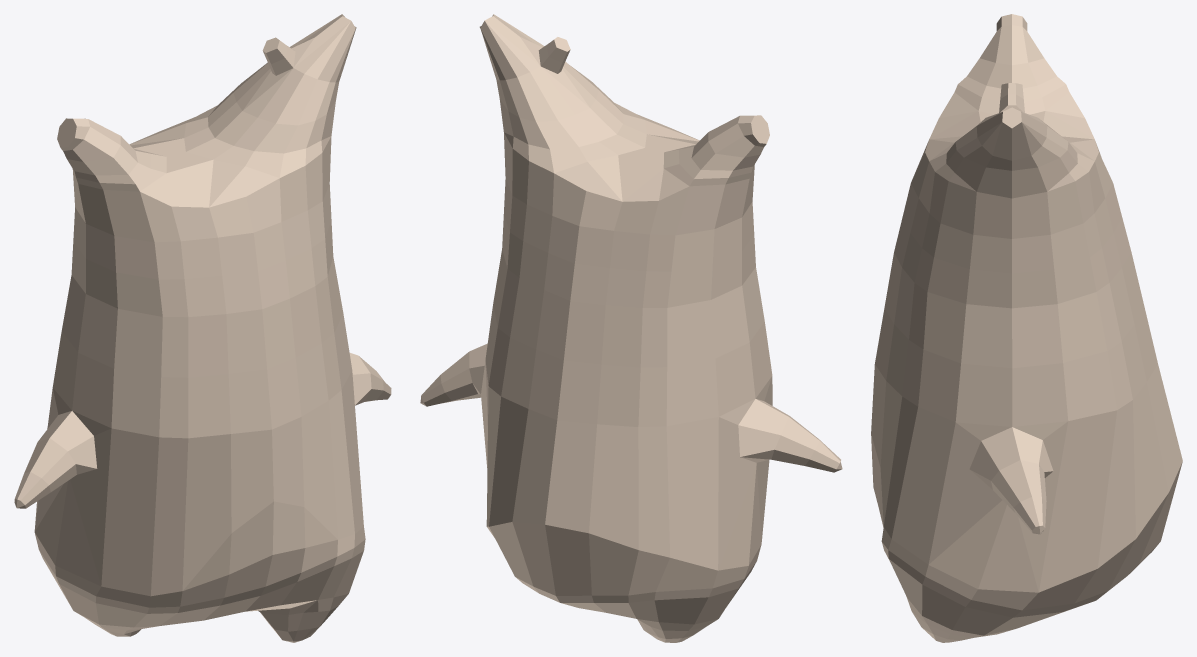
The model's file is frame_0003.obj.
3 renders of one model, left to right at view 1: azimuth 30°, elevation 25°; view 2: azimuth 150°, elevation 25°; view 3: azimuth 270°, elevation 25°, orthographic. The views are drawn at different scales.
Parts seen in each view (by area): view 1: korok; view 2: korok; view 3: korok.
Boxes of the visible parts, left/top/right/bottom form: korok: left=14, top=14, right=391, bottom=642; korok: left=420, top=14, right=842, bottom=642; korok: left=871, top=14, right=1182, bottom=642.
Size of the model in its own units: 1.56 by 2.15 by 1.06.
